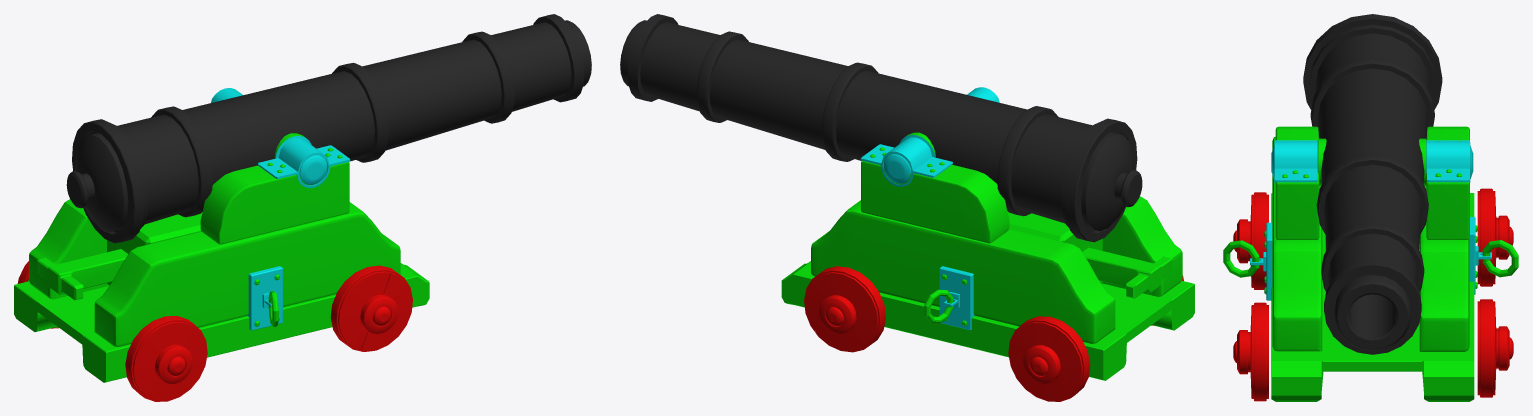
The model's file is Cannon.fbx.
3 renders of one model, left to right at view 1: azimuth 30°, elevation 25°; view 2: azimuth 150°, elevation 25°; view 3: azimuth 270°, elevation 25°, orthographic. The views are drawn at different scales.
Visible parts, largest first — view 1: base; view 2: base; view 3: base.
Part boxes in pixels (x1,y1,x2,y2): base: (14, 14, 591, 401); base: (620, 14, 1194, 401); base: (1223, 14, 1518, 401).
Bounding box in the file's own units: 9.87 × 4.32 × 4.36.
